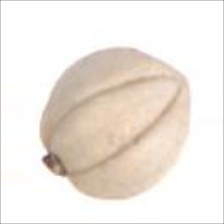L5: (51, 74, 185, 176), (39, 144, 72, 183)
L6: (36, 47, 192, 202)
